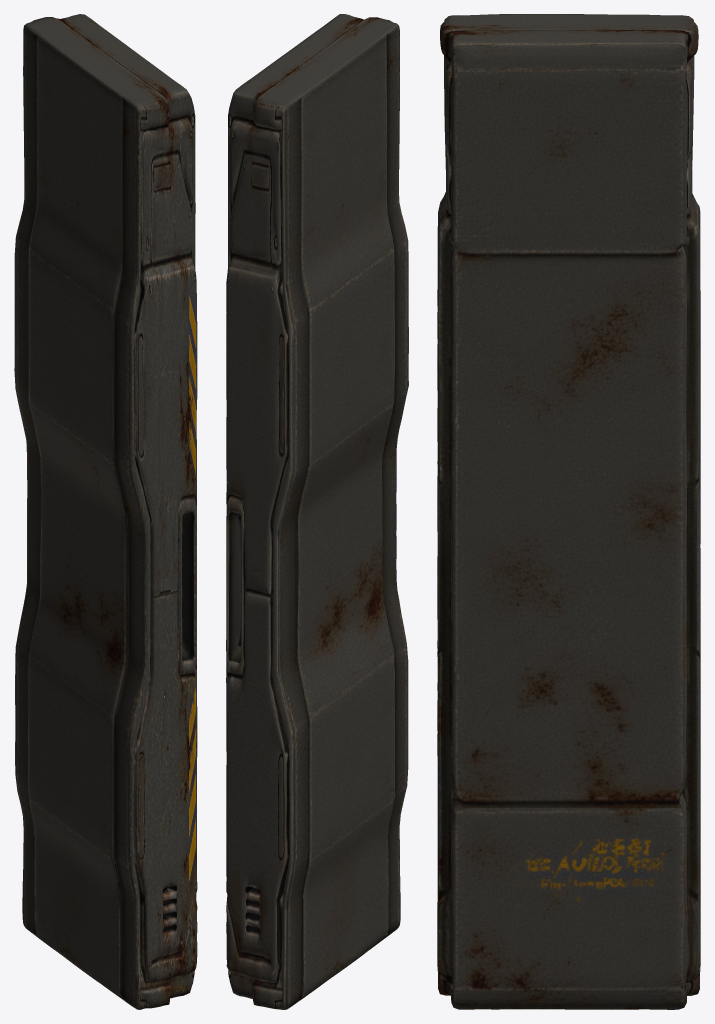
The model's file is sci-fi+industrial+door+3d+model.glb.
3 renders of one model, left to right at view 1: azimuth 30°, elevation 25°; view 2: azimuth 150°, elevation 25°; view 3: azimuth 270°, elevation 25°, orthographic. The views are drawn at different scales.
Parts seen in each view (by area): view 1: tripo_node_82e63a5c-994a-40db-a207-5137b4851dd8; view 2: tripo_node_82e63a5c-994a-40db-a207-5137b4851dd8; view 3: tripo_node_82e63a5c-994a-40db-a207-5137b4851dd8.
Boxes of the visible parts, left/top/right/bottom form: tripo_node_82e63a5c-994a-40db-a207-5137b4851dd8: left=14, top=14, right=197, bottom=1009; tripo_node_82e63a5c-994a-40db-a207-5137b4851dd8: left=226, top=14, right=408, bottom=1009; tripo_node_82e63a5c-994a-40db-a207-5137b4851dd8: left=437, top=14, right=700, bottom=1009.
Bounding box in the file's own units: 0.0808 × 0.9772 × 0.2414.
1 material, 1 textured.
